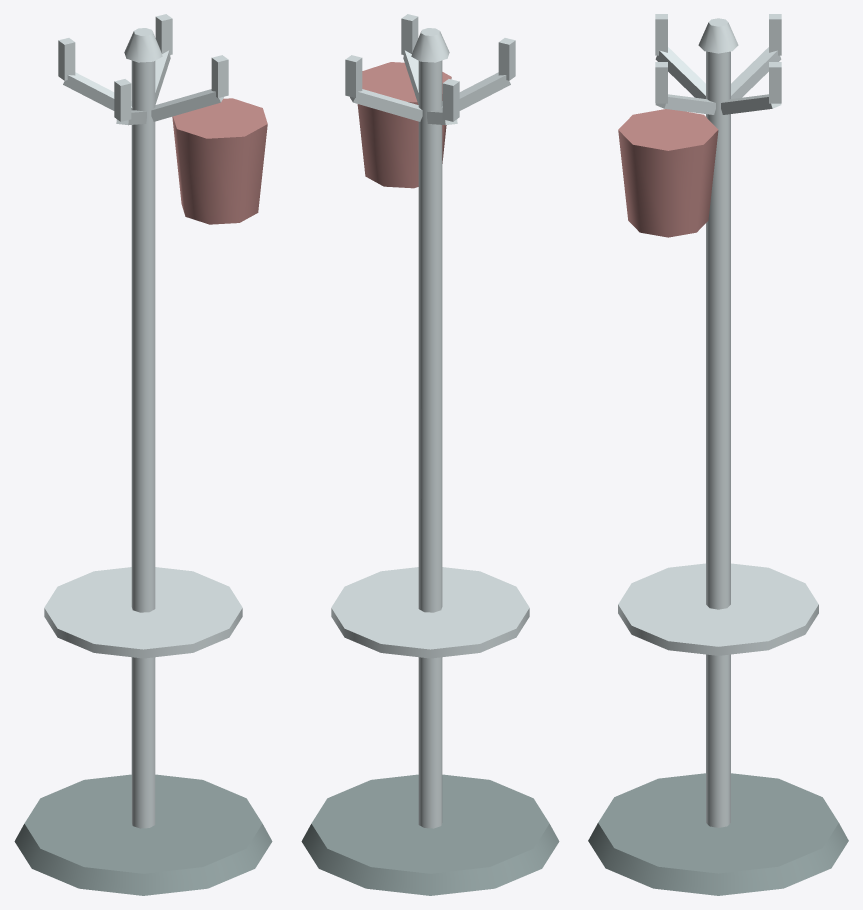
File: hatStand.glb
3 renders of one model, left to right at view 1: azimuth 30°, elevation 25°; view 2: azimuth 150°, elevation 25°; view 3: azimuth 270°, elevation 25°, orthographic.
Parts seen in each view (by area): view 1: hatStand; view 2: hatStand; view 3: hatStand.
Part boxes in pixels (<box>): hatStand: <box>14,14,272,895</box>; hatStand: <box>301,14,559,895</box>; hatStand: <box>588,14,848,895</box>.
Size of the model in its own units: 0.26 by 0.9 by 0.26.
